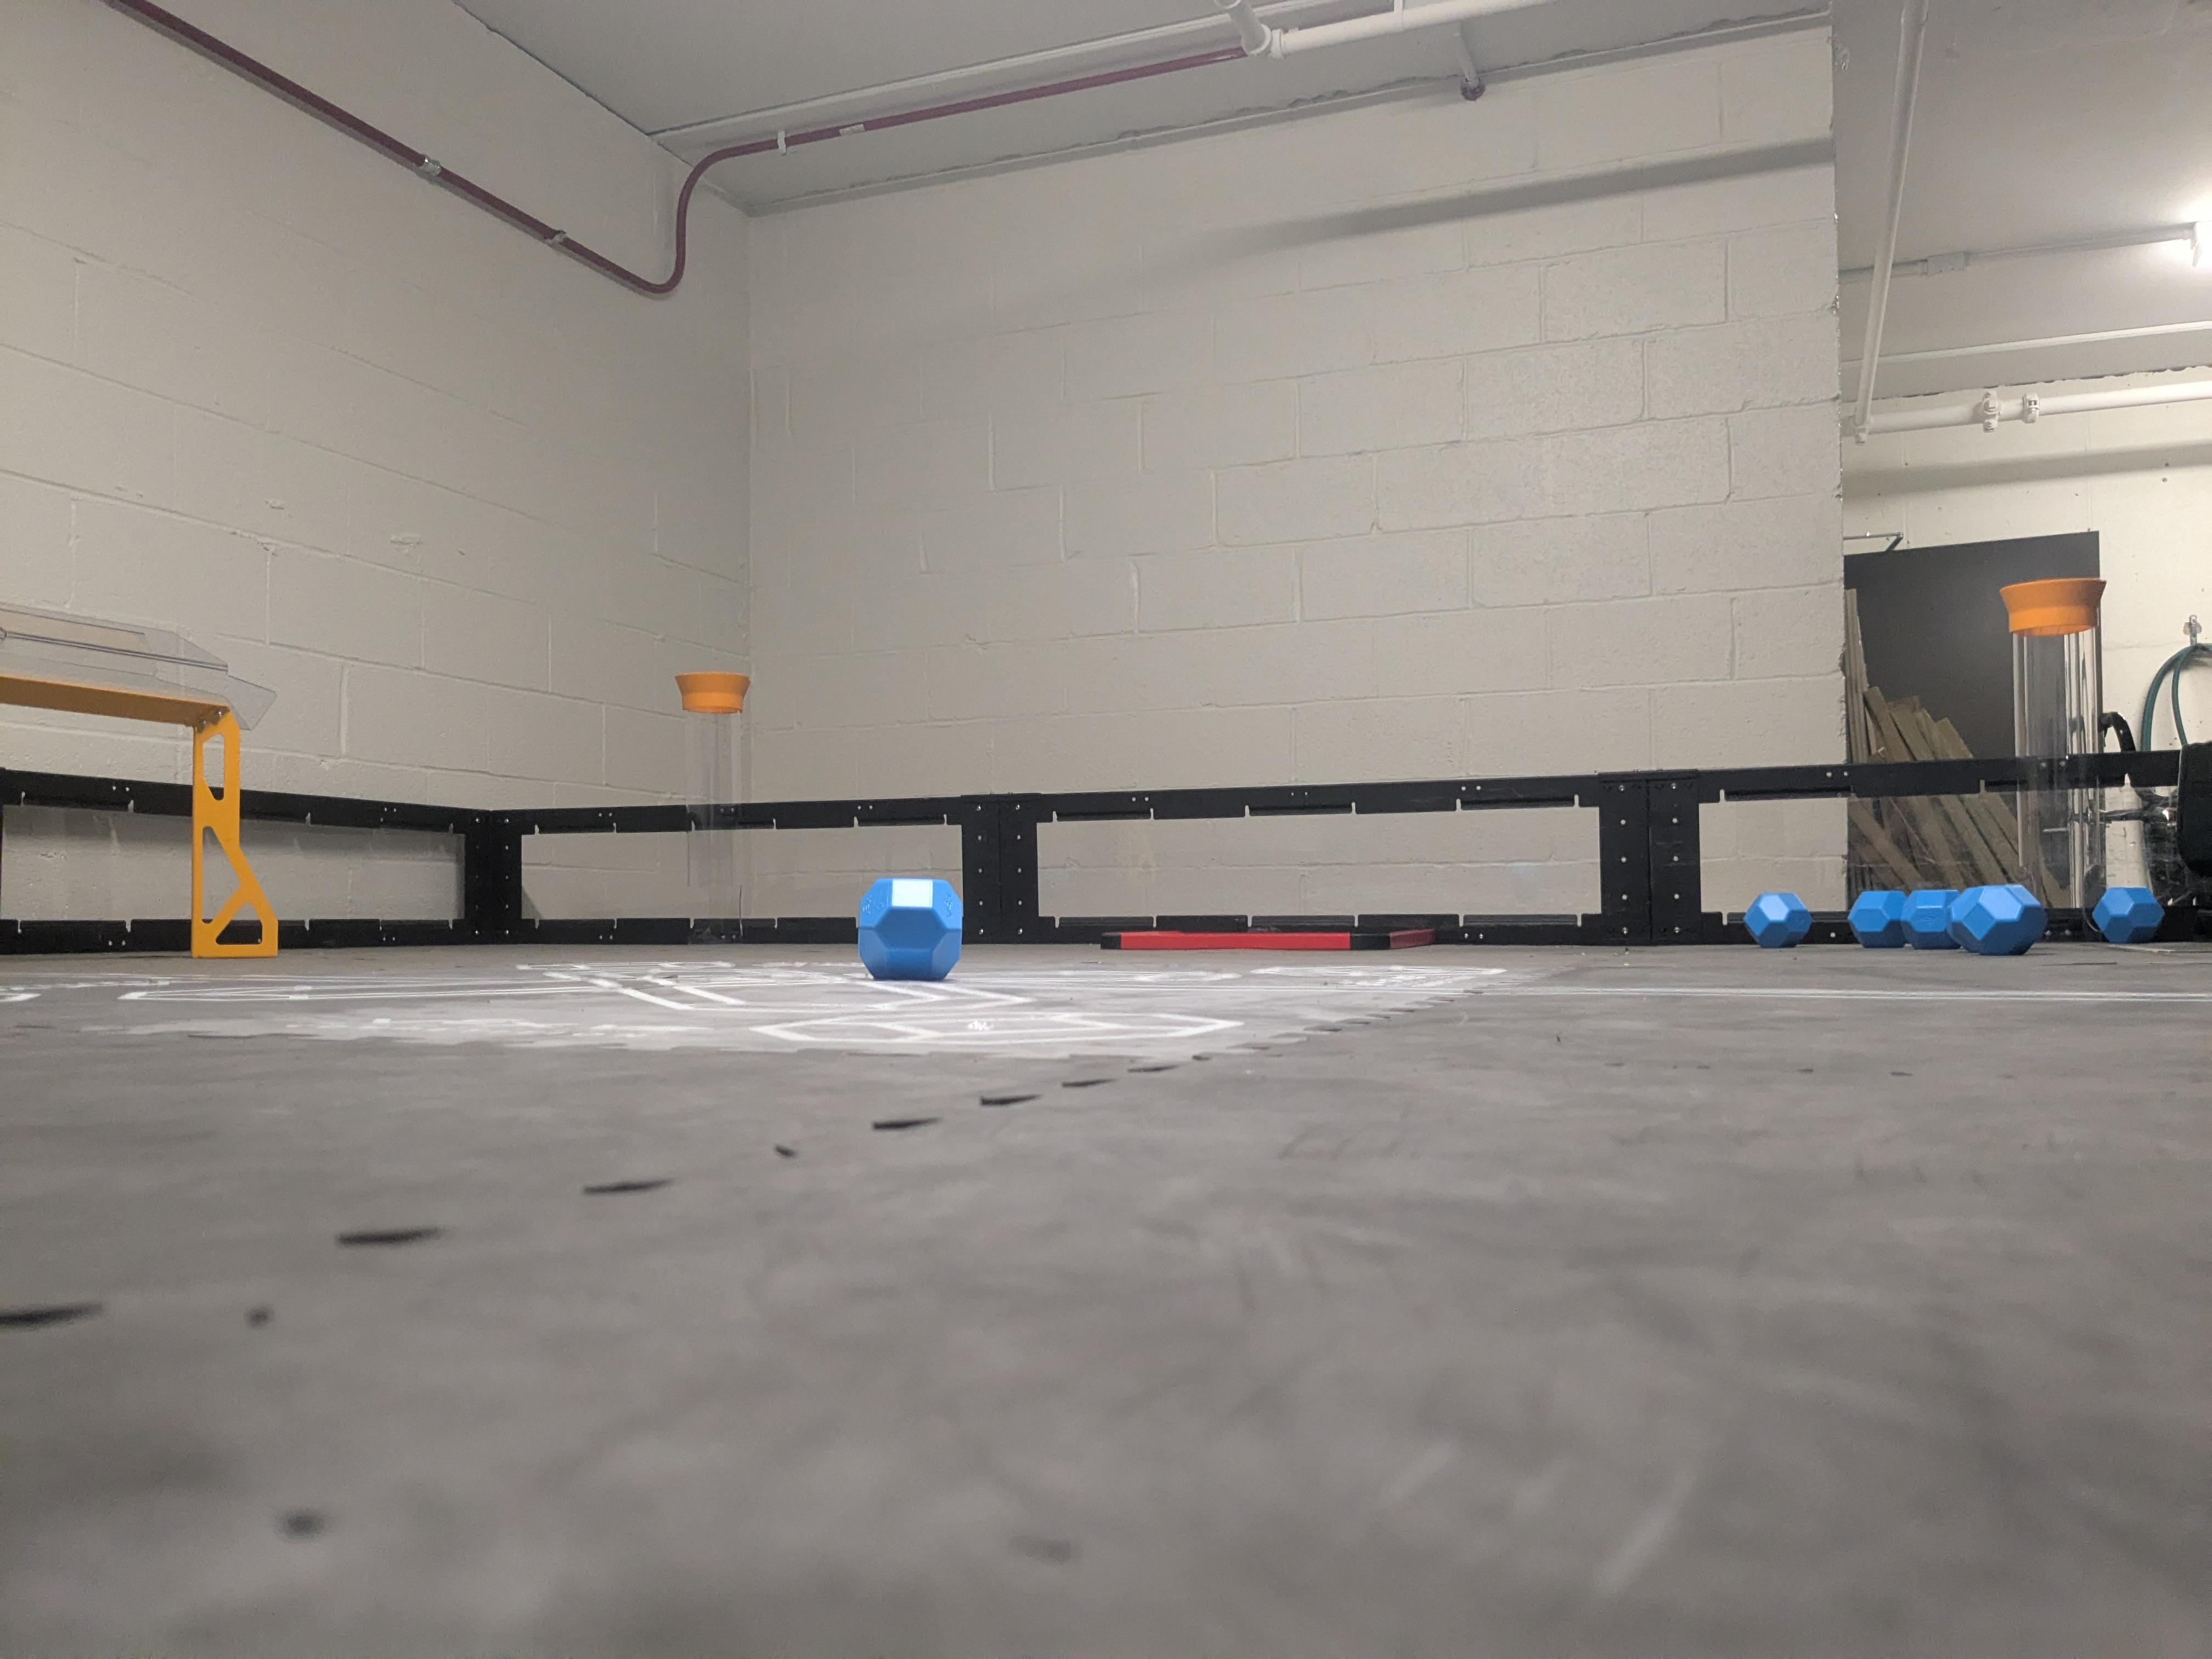Vex-Pieces-BLUE: (857, 878, 968, 979), (1947, 884, 2047, 955), (2090, 885, 2167, 941), (1743, 892, 1811, 948), (1902, 889, 1958, 950), (1848, 890, 1905, 946)
